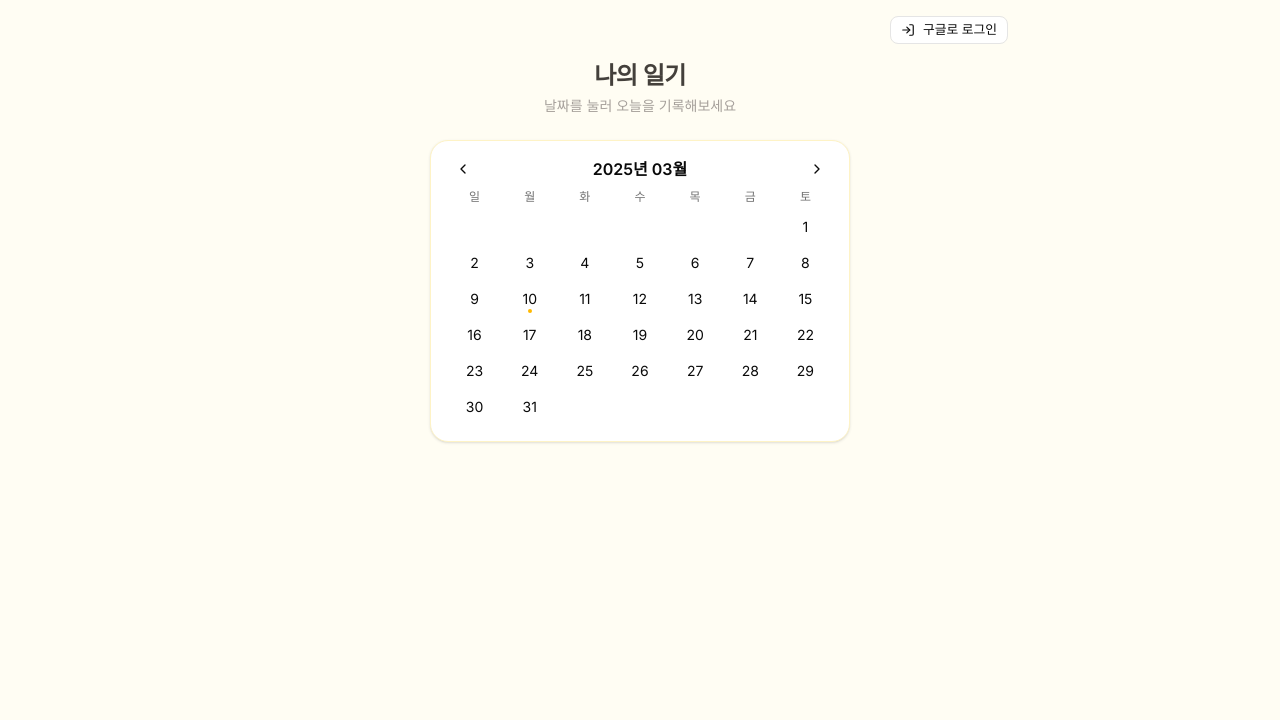
Test: DIARY-016: 일기 삭제 전 확인 다이얼로그 › 삭제 버튼을 클릭하면 '일기를 삭제하시겠습니까?' 확인 다이얼로그가 표시된다
The image size is (1280, 720).
// 2025-03-10 클릭하여 일기 화면 진입
Click the button "10": [530, 299] box [514, 283, 546, 315]
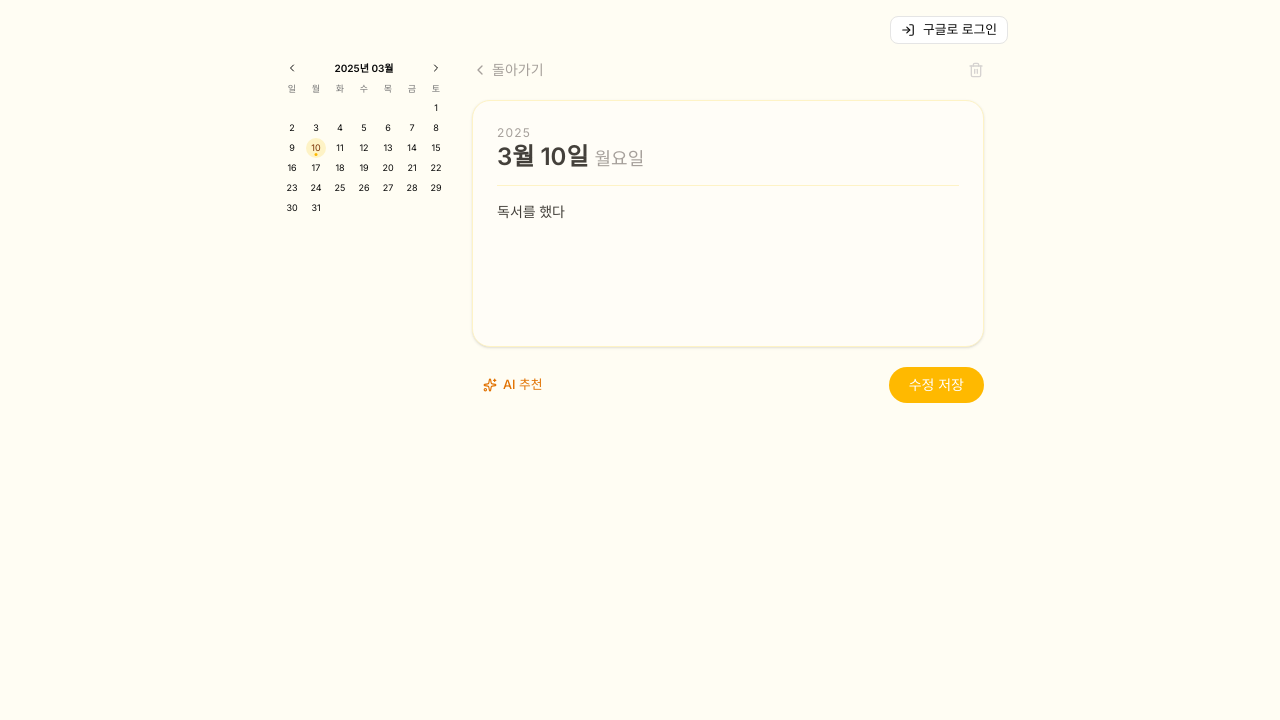
// 삭제 버튼 클릭
Click the button named "삭제": [976, 70] box [968, 62, 984, 78]
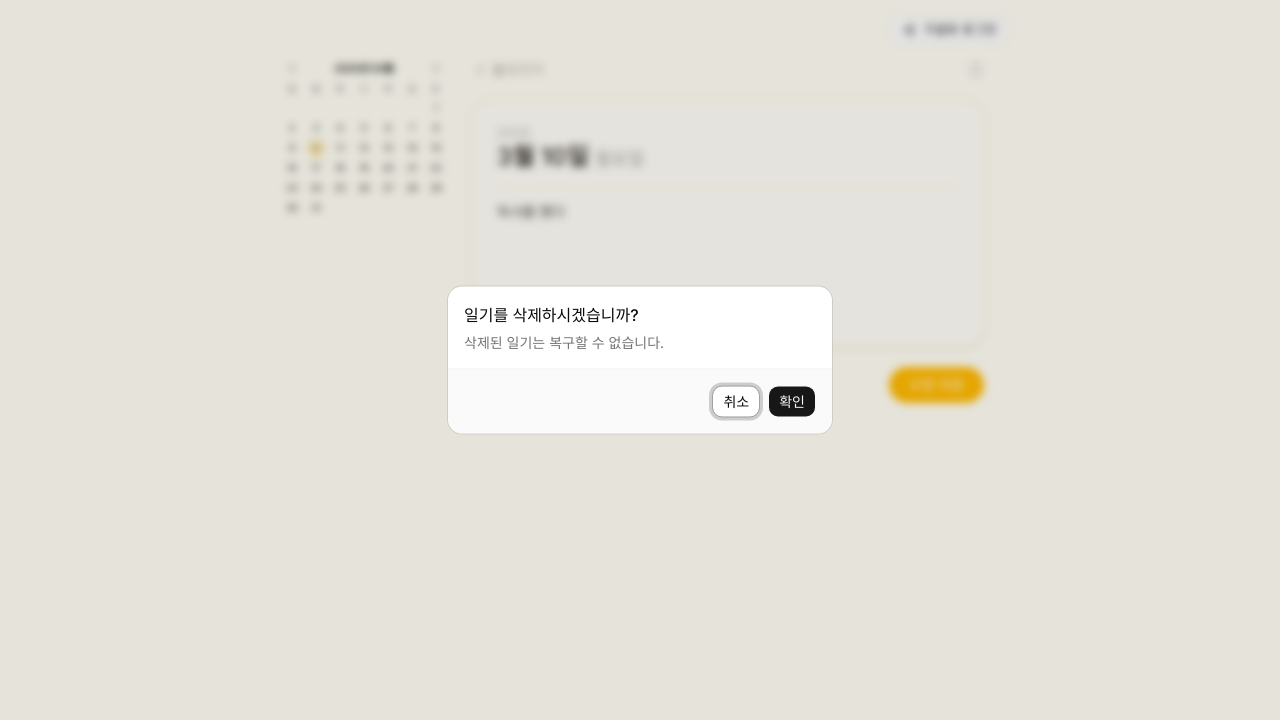
Now the heading "일기를 삭제하시겠습니까?" is shown, box [464, 302, 639, 326]
